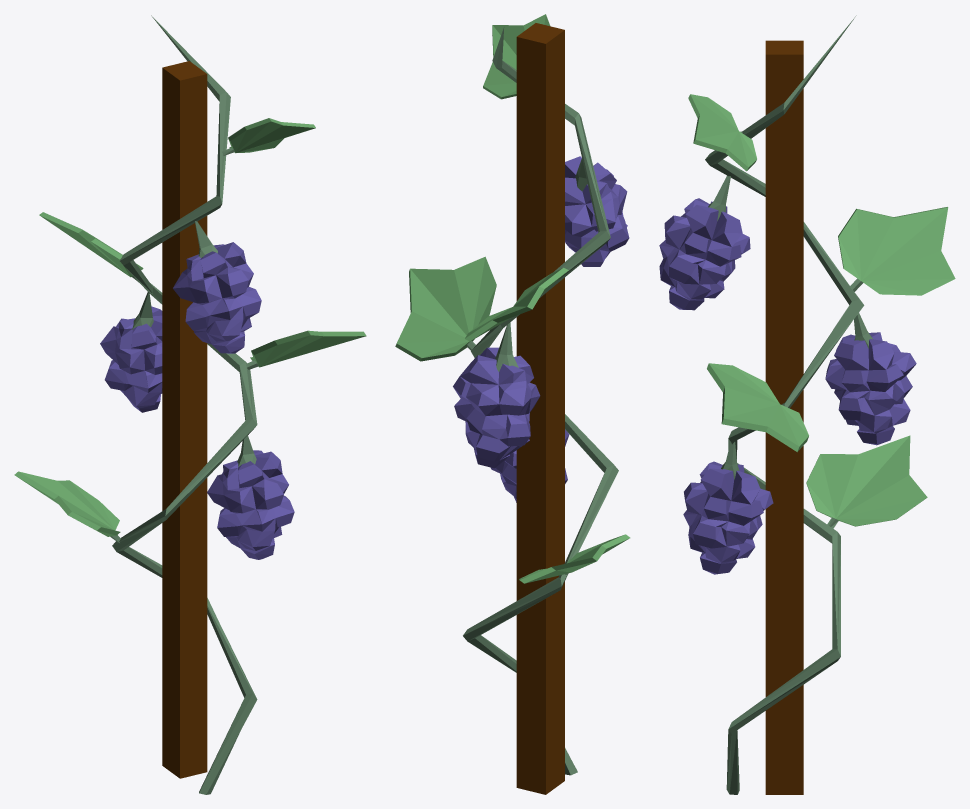
File: grap.glb
3 views of the same model, side by side, from view 1: azimuth 30°, elevation 25°; view 2: azimuth 150°, elevation 25°; view 3: azimuth 270°, elevation 25° (orthographic). The views are drawn at different scales.
Visible parts, largest first — view 1: grap; view 2: grap; view 3: grap.
Boxes of the visible parts, x1,y1,x2,y2 form: grap: (14, 15, 366, 794); grap: (395, 14, 630, 794); grap: (659, 15, 955, 794).
Size of the model in its own units: 0.6898 by 1.84 by 0.6331.
Materials: 1 (1 with a texture image).
